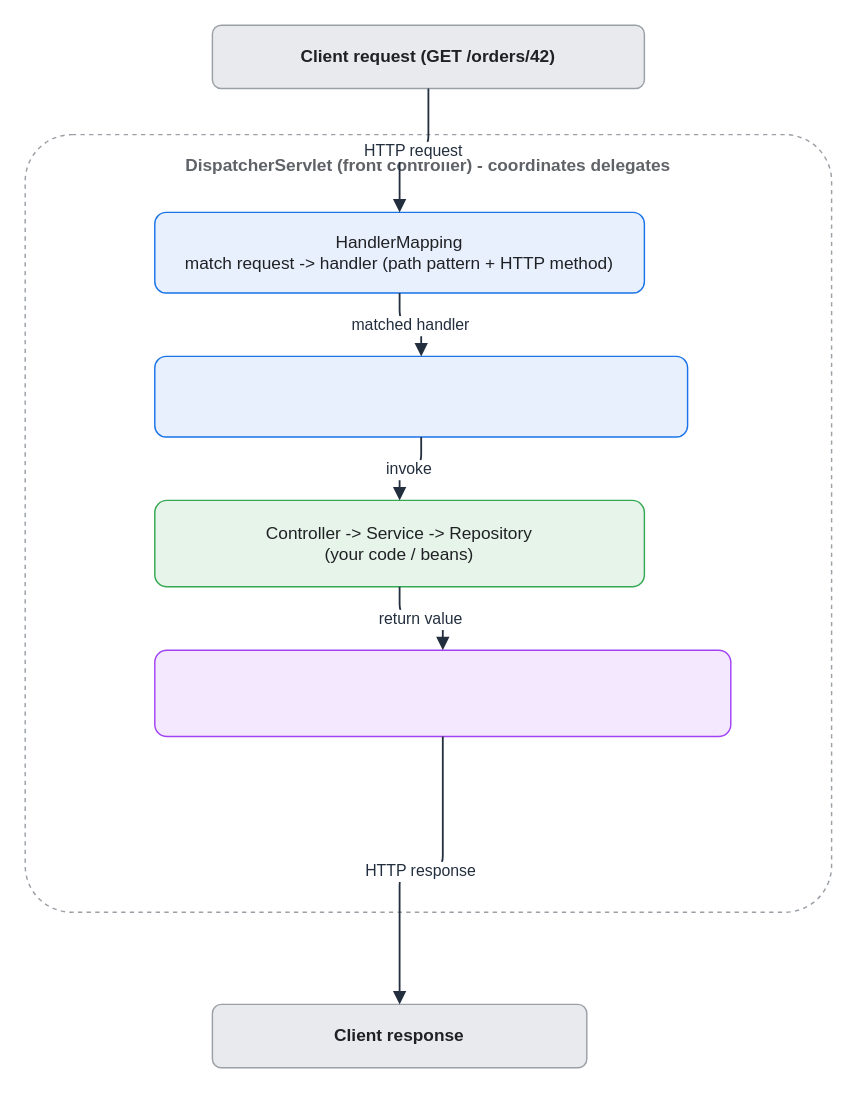
This 857x1093 diagram has some shape labels left out. Each missing label, with the centre of its shape:
"HandlerAdapter invoke the matched handler (bind args)" goes at pixel 420 396.
"Return value handling HttpMessageConverter (JSON) / ViewResolver" goes at pixel 442 693.
